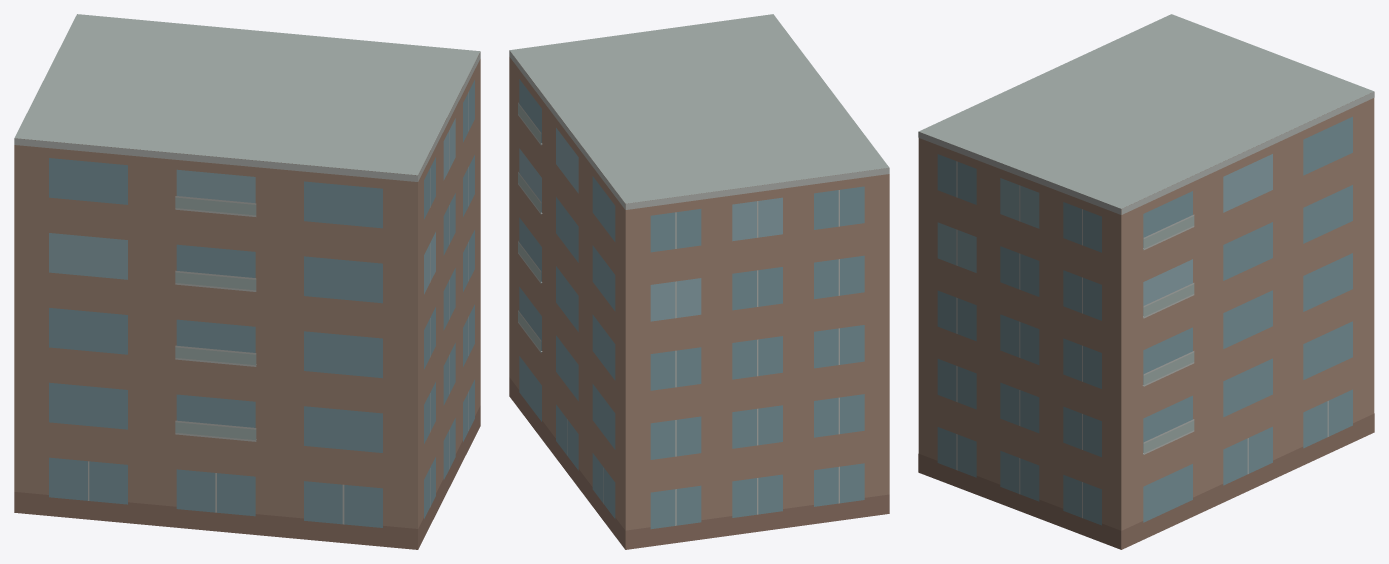
File: survey-upis-32712311.glb
3 renders of one model, left to right at view 1: azimuth 30°, elevation 25°; view 2: azimuth 150°, elevation 25°; view 3: azimuth 270°, elevation 25°, orthographic. The views are drawn at different scales.
Parts seen in each view (by area): view 1: survey-upis-32712311.tmp; view 2: survey-upis-32712311.tmp; view 3: survey-upis-32712311.tmp.
Boxes of the visible parts, bbox=[...] form: survey-upis-32712311.tmp: bbox=[14, 14, 480, 549]; survey-upis-32712311.tmp: bbox=[509, 14, 889, 549]; survey-upis-32712311.tmp: bbox=[918, 14, 1374, 549].
Size of the model in its own units: 16.44 by 13.4 by 16.25.
